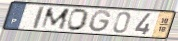0: (112, 11, 132, 34)
4: (133, 12, 152, 36)
G: (88, 9, 113, 33)
I: (32, 5, 46, 30)
M: (39, 7, 72, 30)
O: (66, 8, 90, 32)
